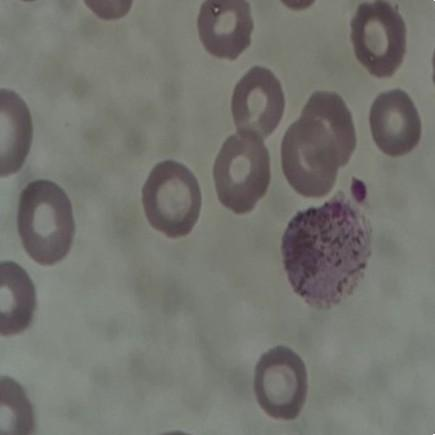Infected: (280, 193, 371, 313)
Uninfected: (16, 179, 75, 267), (216, 129, 270, 217), (300, 89, 359, 169), (280, 116, 336, 200), (349, 1, 407, 82), (142, 160, 201, 239), (253, 343, 306, 423), (231, 65, 284, 141), (369, 89, 423, 157), (196, 0, 252, 60)
